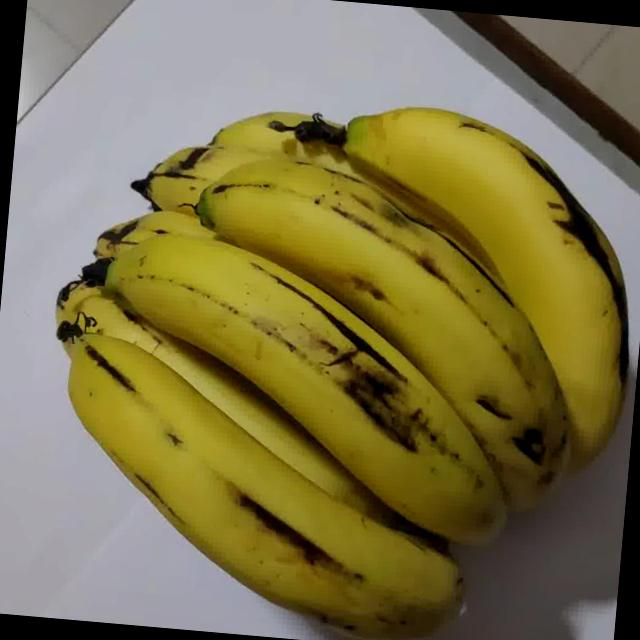banana_pacche: (27, 11, 640, 640)
